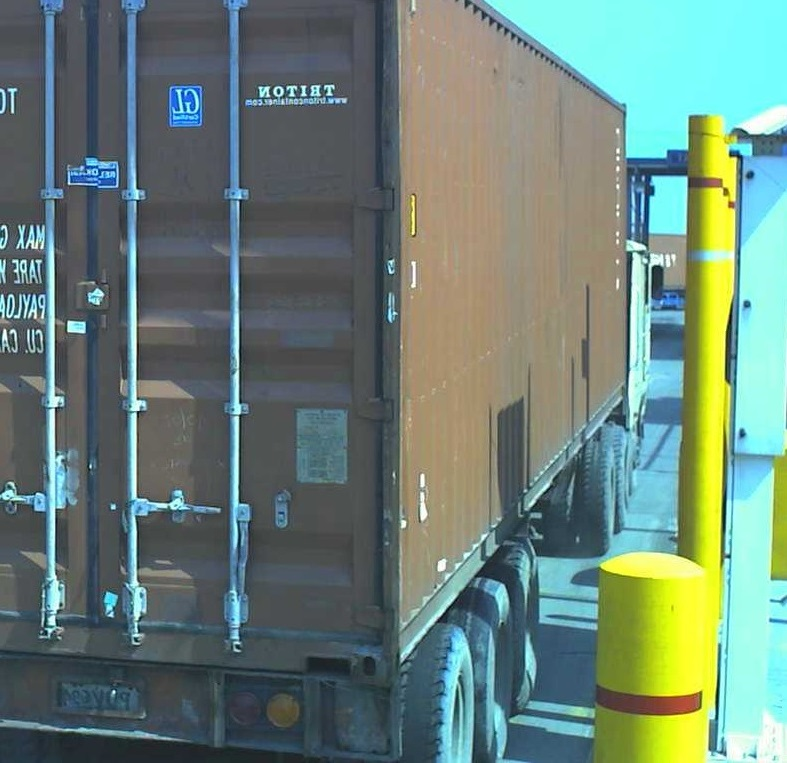container_no_door: (1, 2, 398, 696)
